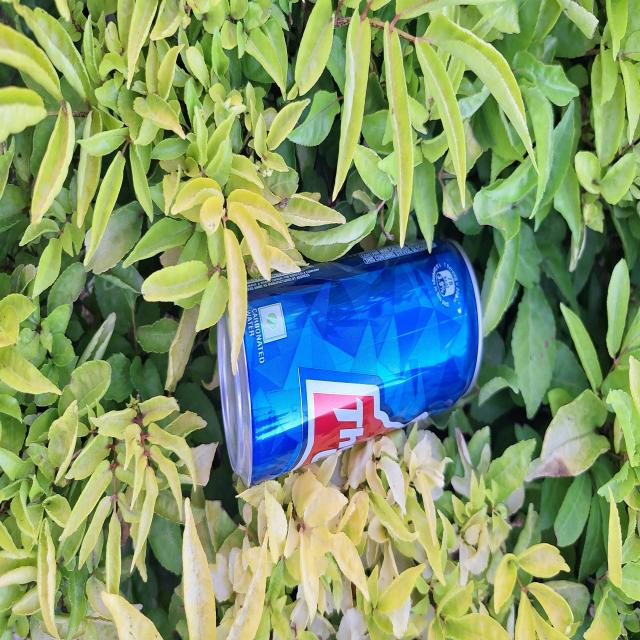Thums Up: (214, 223, 482, 499)
